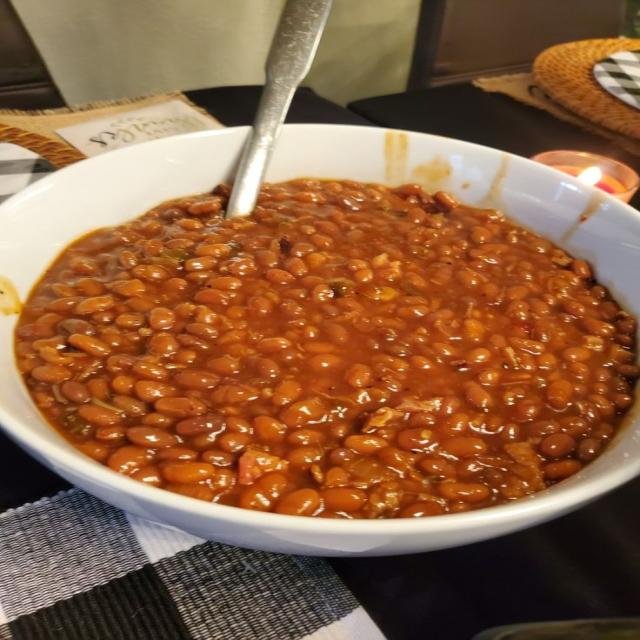beans: (16, 179, 639, 518), (107, 445, 152, 474), (161, 460, 214, 484), (280, 398, 325, 426), (275, 489, 320, 515), (176, 413, 224, 437), (320, 488, 366, 512), (154, 397, 206, 418), (127, 427, 178, 448), (440, 481, 490, 502), (78, 404, 123, 426), (134, 380, 176, 402), (396, 428, 433, 452), (442, 437, 486, 457), (540, 433, 575, 458), (173, 370, 219, 389), (68, 335, 111, 355), (165, 484, 214, 501), (254, 416, 286, 442), (345, 435, 388, 454), (111, 395, 148, 416), (399, 501, 444, 518), (465, 382, 493, 409), (547, 380, 573, 409), (272, 380, 302, 405), (544, 460, 581, 480), (31, 365, 72, 383), (147, 333, 179, 356), (287, 447, 322, 468), (420, 458, 456, 478), (74, 297, 116, 314), (287, 428, 326, 446), (132, 361, 168, 380), (216, 432, 250, 452), (132, 265, 170, 282), (346, 364, 372, 388), (61, 381, 89, 403), (156, 446, 197, 461), (207, 356, 239, 375), (94, 425, 126, 444), (131, 466, 161, 486), (576, 438, 602, 461), (148, 308, 175, 330), (308, 354, 341, 372), (200, 450, 235, 466), (562, 347, 592, 362)
